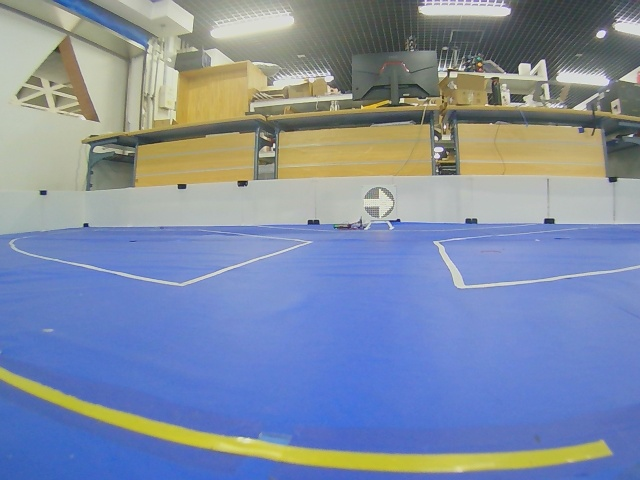right_yellow: (362, 186, 397, 220)
